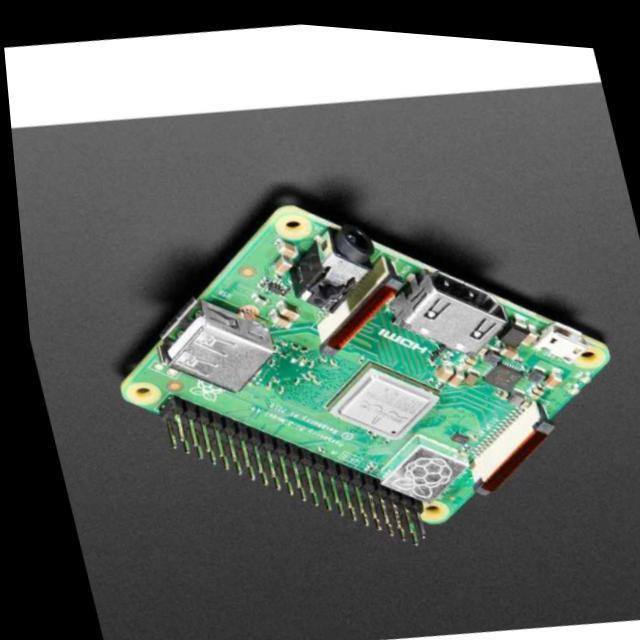Raspberry-Pi-3-A-: (123, 206, 609, 545)
